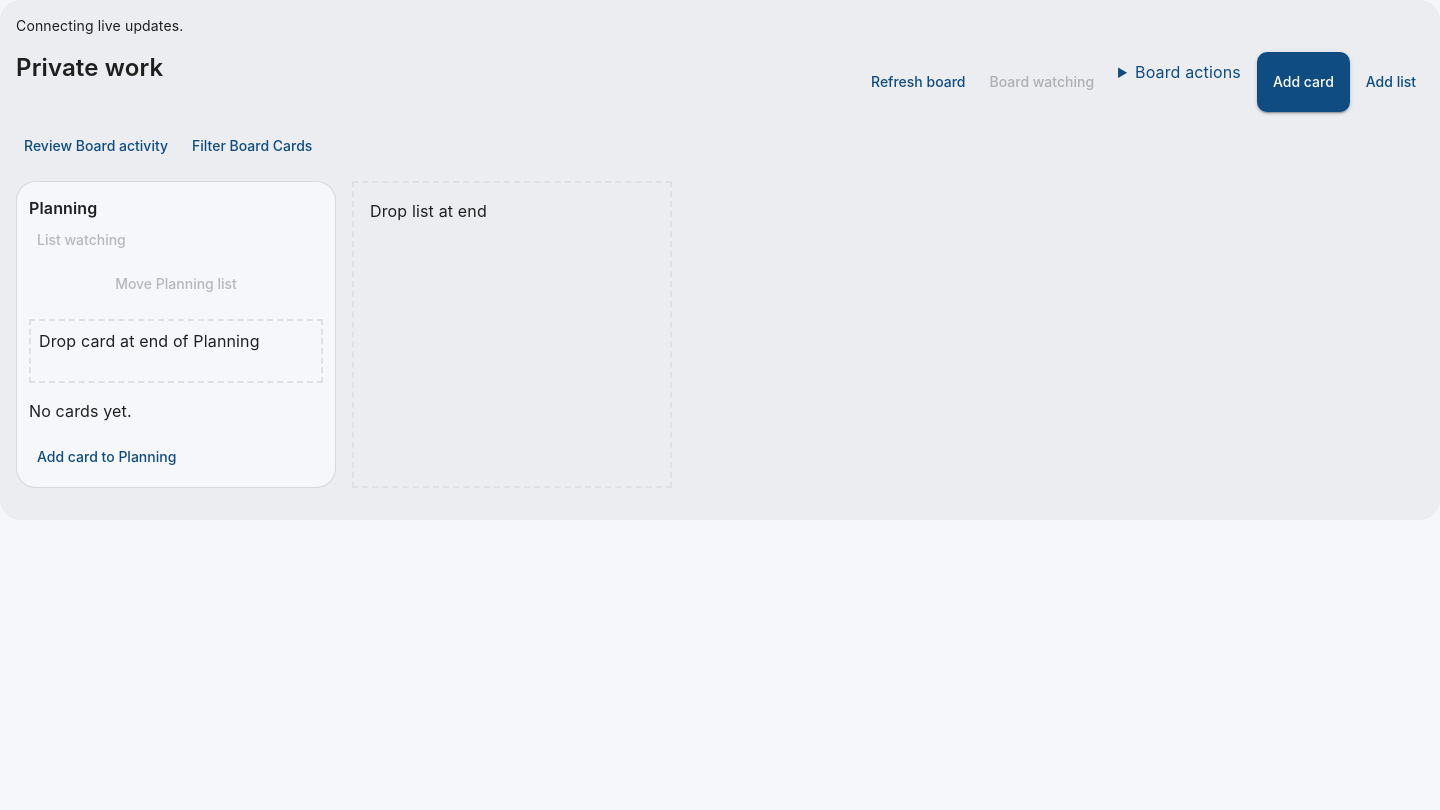
Test: PRD-08-VS-04 Card creation identity › retains original actor, key and body through explicit retry and withdraws on server account refusal
This screenshot has width=1440, height=810.
Click the button "Add card to Planning": click(107, 457) 29,438 -> 184,475
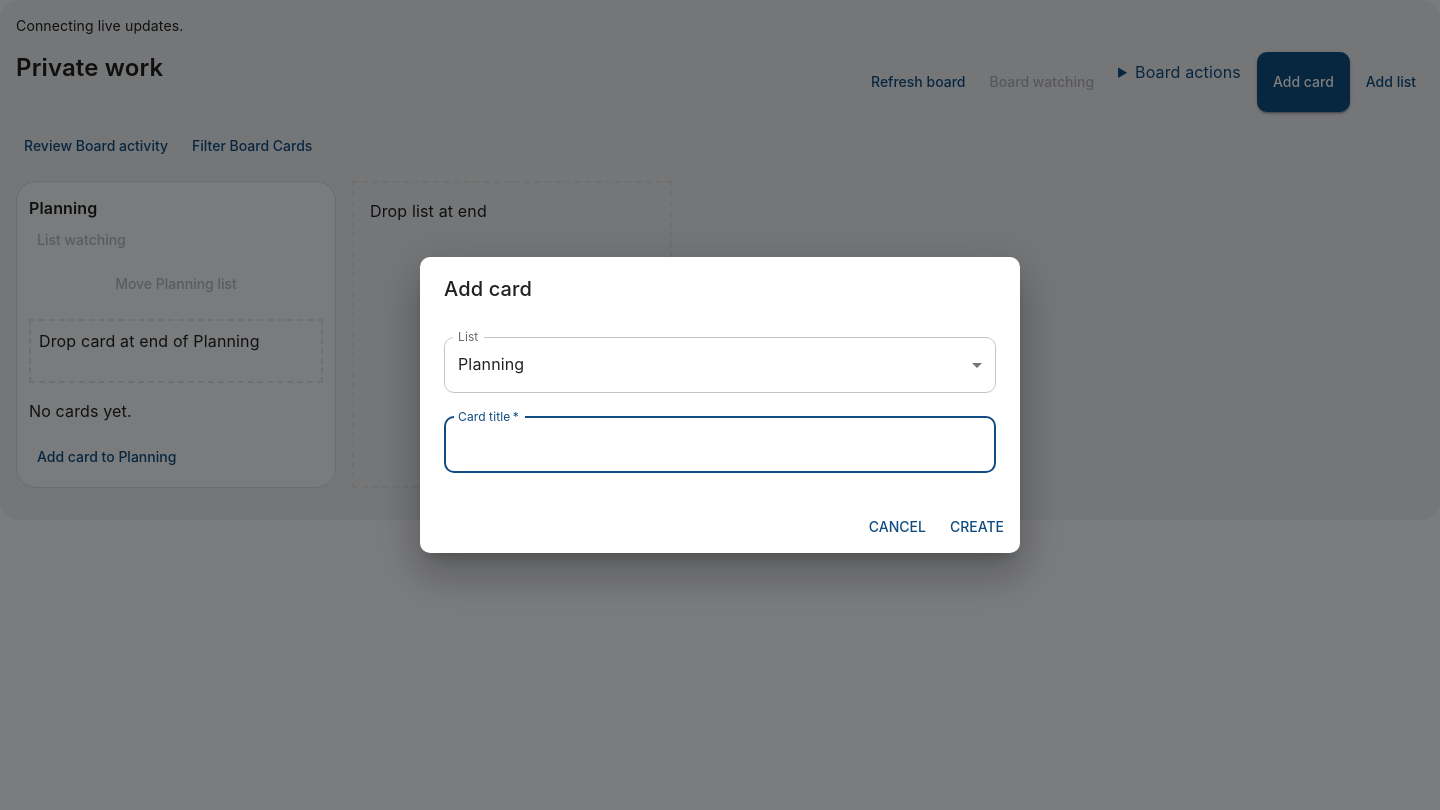
In the field labelled "Card title *": (720, 445) 444,417 -> 996,473, type "Original Card draft"
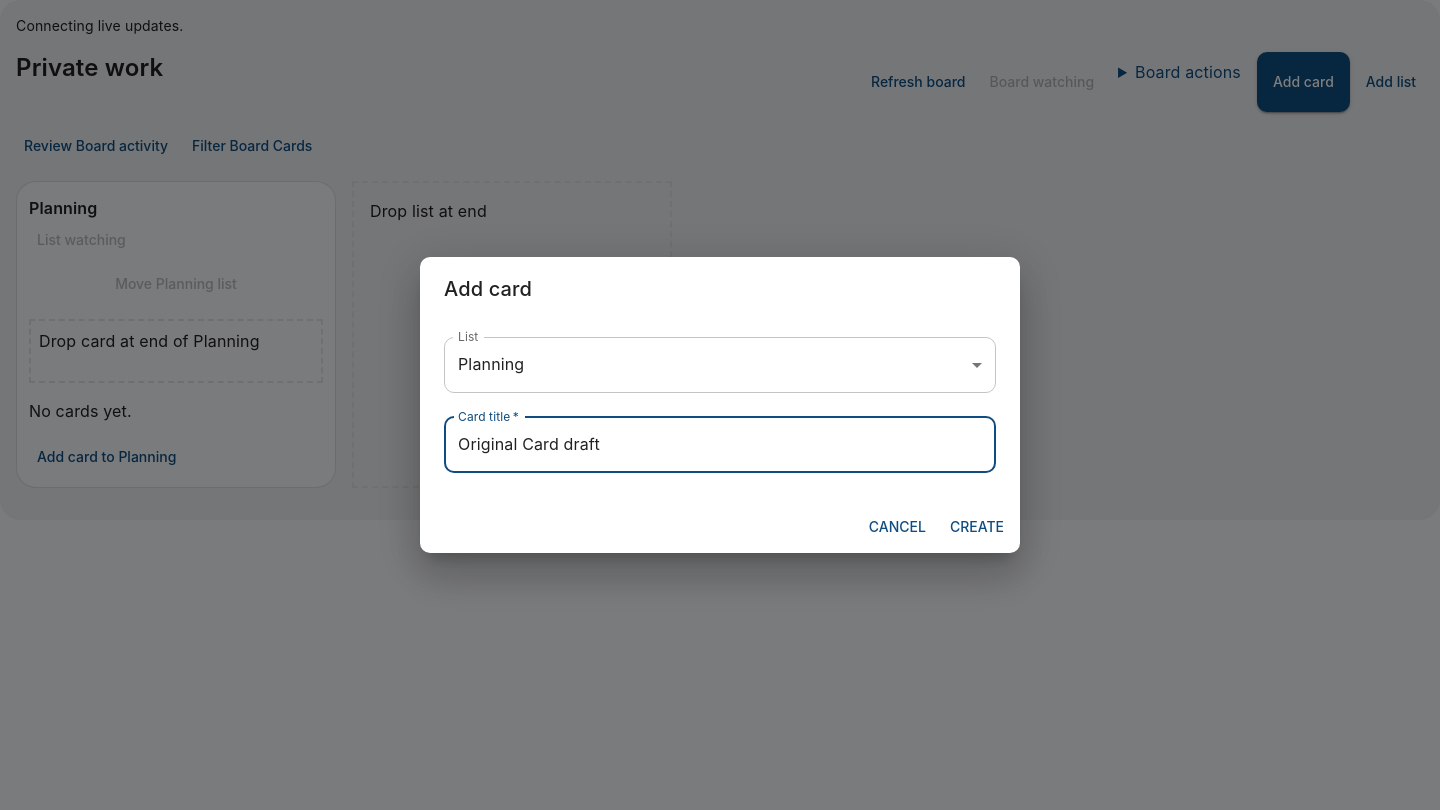
Click the button "Create": click(977, 527) 942,509 -> 1012,545
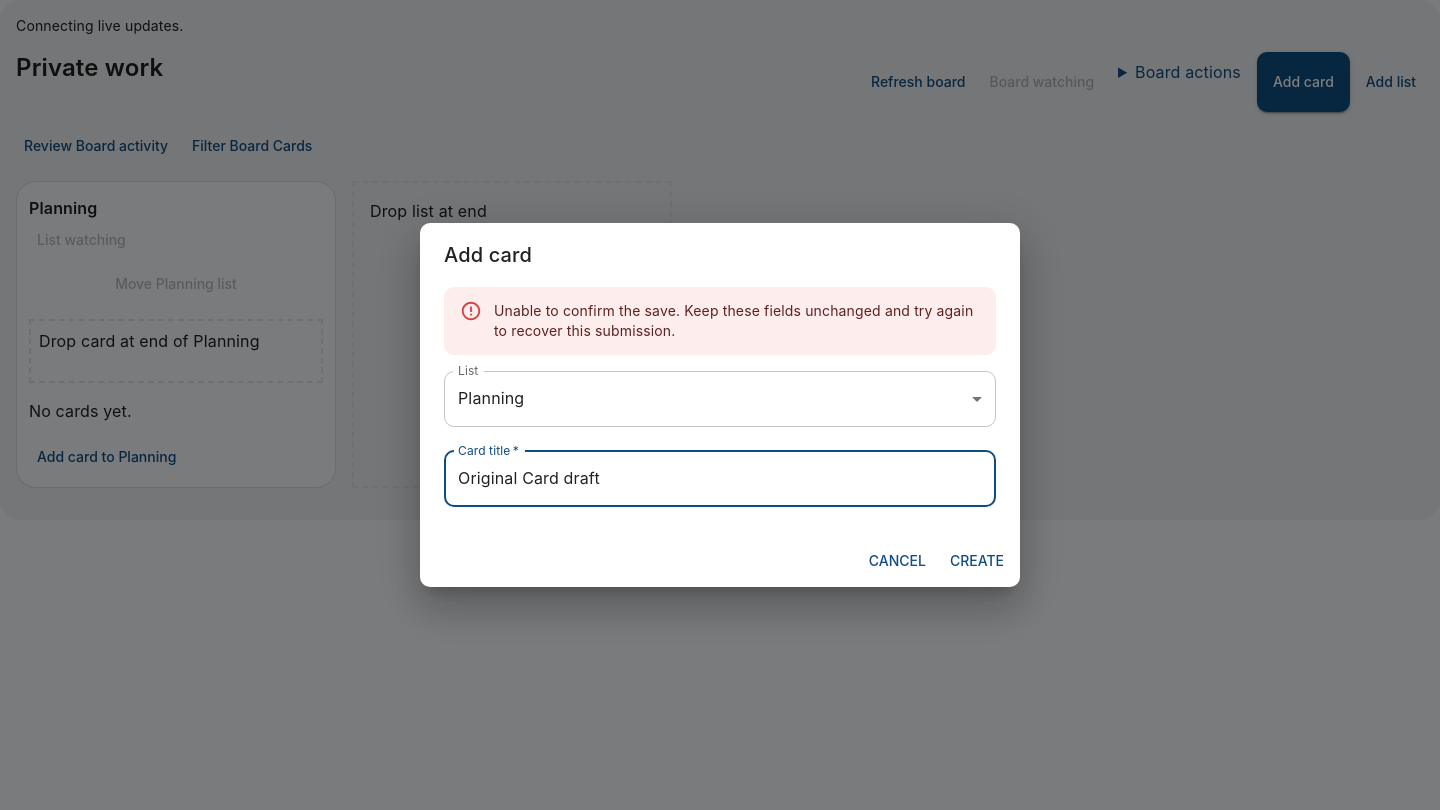
expect the message shows "Unable to confirm the save": met, box 494,302 -> 973,339
Click the button "Create": click(977, 561) 942,543 -> 1012,579
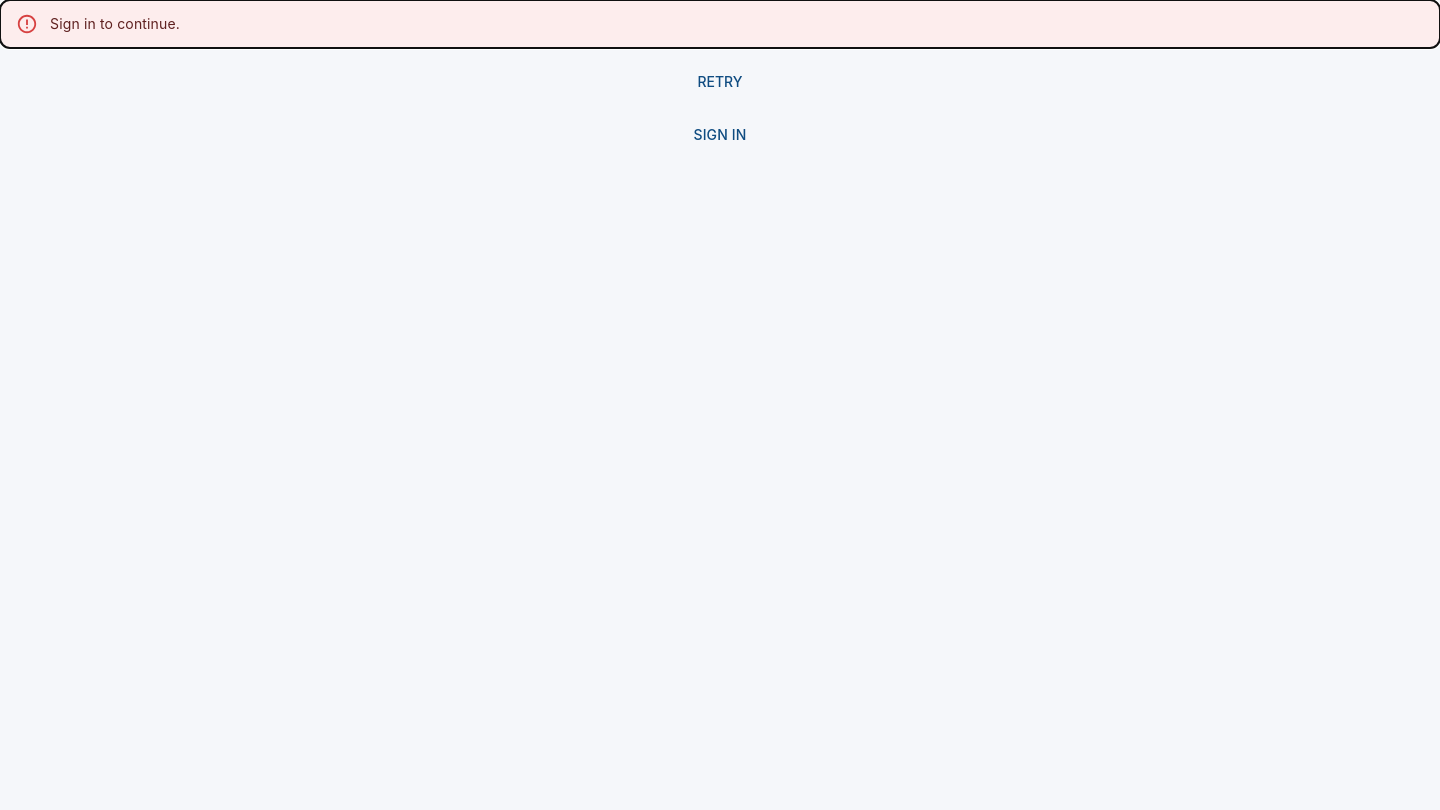
expect the label labelled "Card title" is gone: met
expect the heading "Private work" is gone: met
